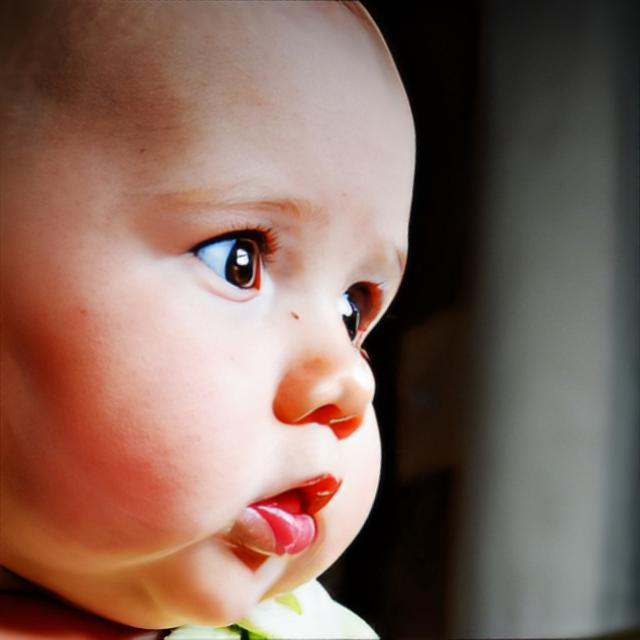fear: (1, 0, 421, 629)
